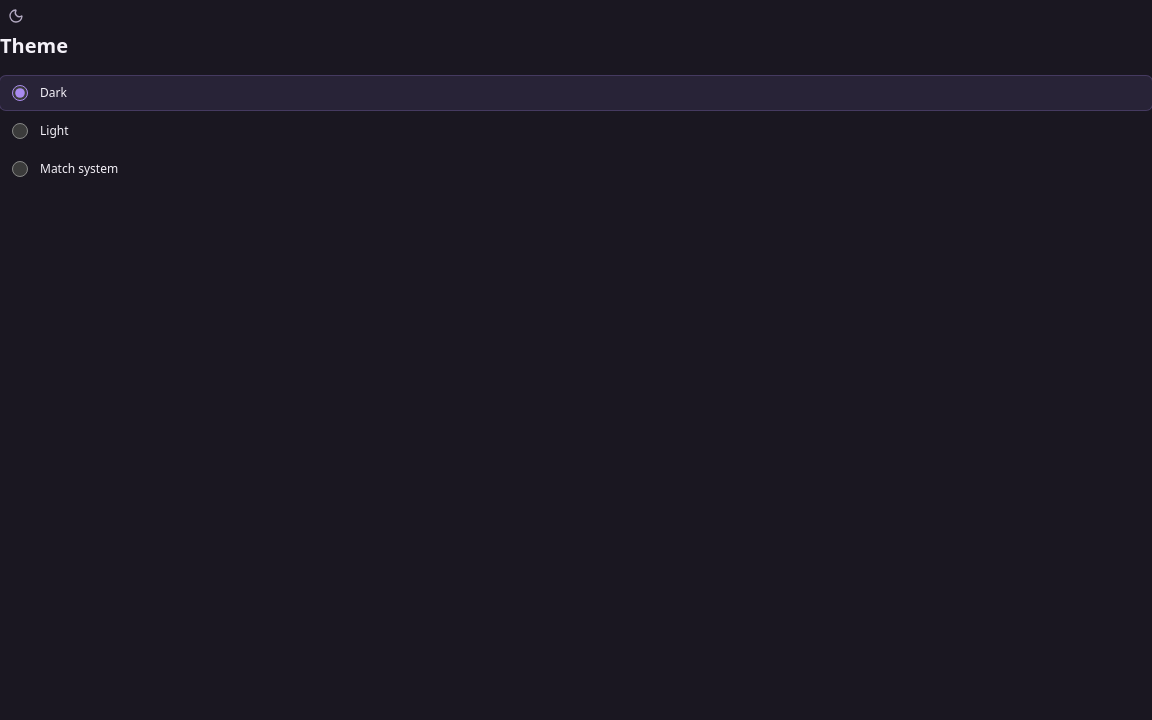
Scenario: useTheme — shared external store keeps multiple consumers in sync (WR-01) › clicking ThemeToggle radio updates ThemeChip aria-label in the same render tree
The width and height of the screenshot is (1152, 720).
Check: the button named "current: dark; next: light" is shown, box [0,0,32,32]
Click the radio button labelled "Light".
click(20, 130)  # box [12,122,28,138]
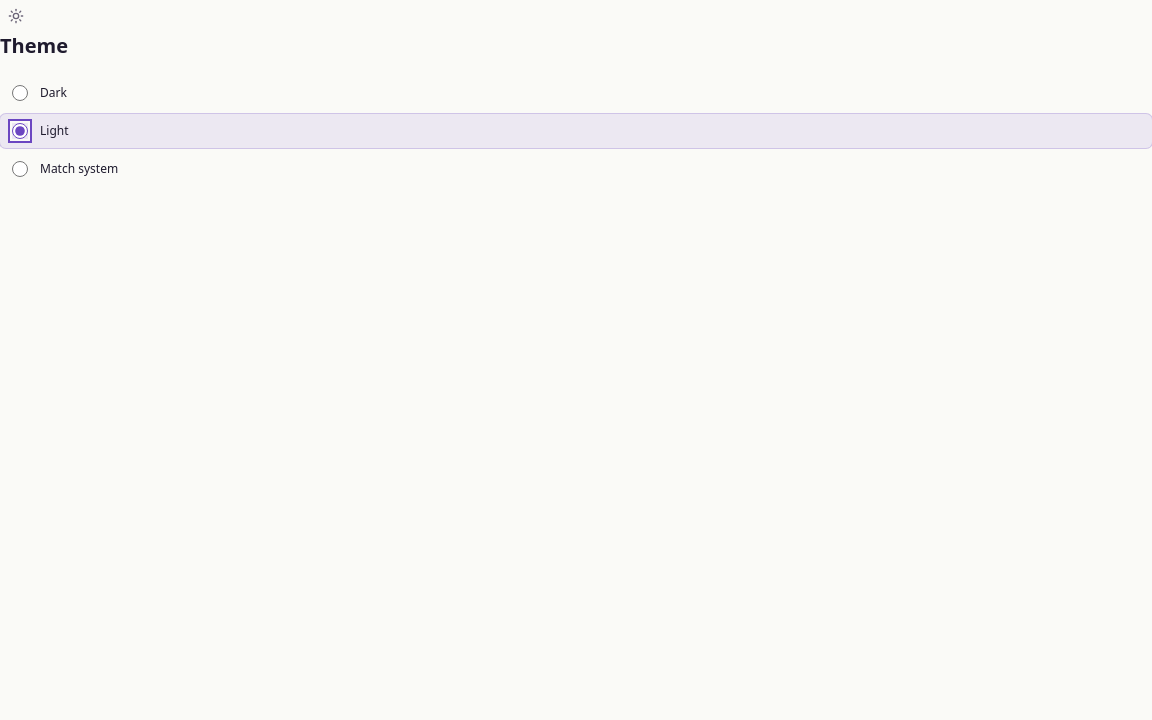
Check: the radio button labelled "Light" is checked, box [12,122,28,138]
Check: the button named "current: light; next: system" is shown, box [0,0,32,32]
